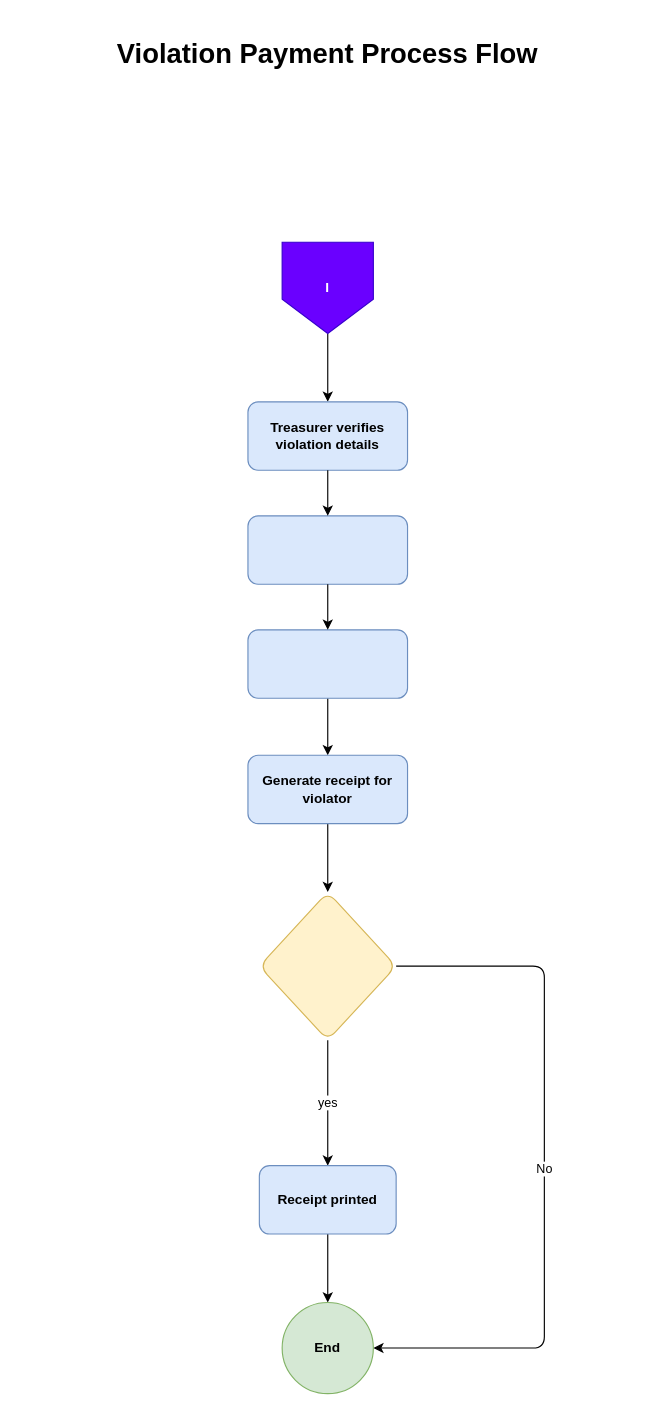
This 654x1414 diagram has some shape labels left out. Here are the shapes that lost their labels. From the top down, the box of each, then its label:
(247, 515, 408, 584): Pay fine amount
(247, 629, 408, 698): System processes payment
(258, 891, 396, 1040): Violator wants a copy?
